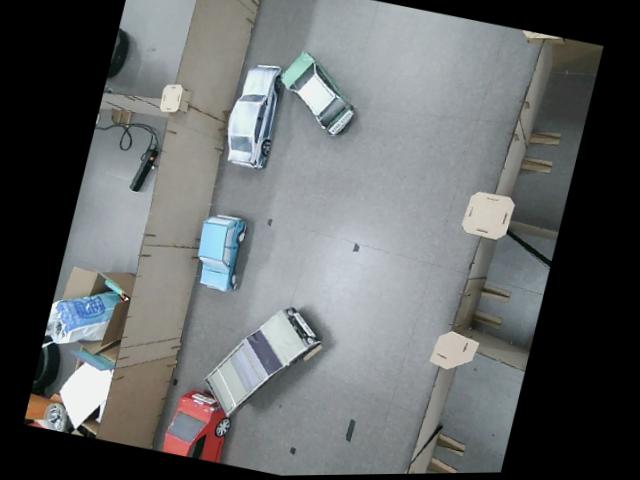car: (194, 290, 330, 436), (267, 44, 369, 141), (216, 56, 291, 173), (159, 382, 243, 466), (187, 208, 255, 296)
